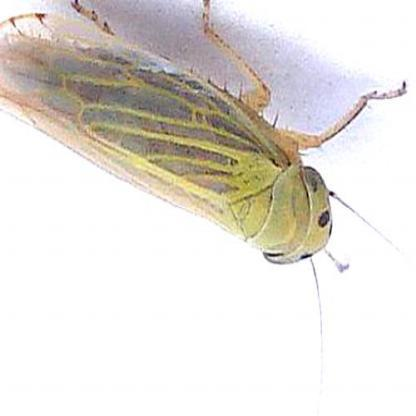green-leafhopper: (0, 2, 408, 268)
